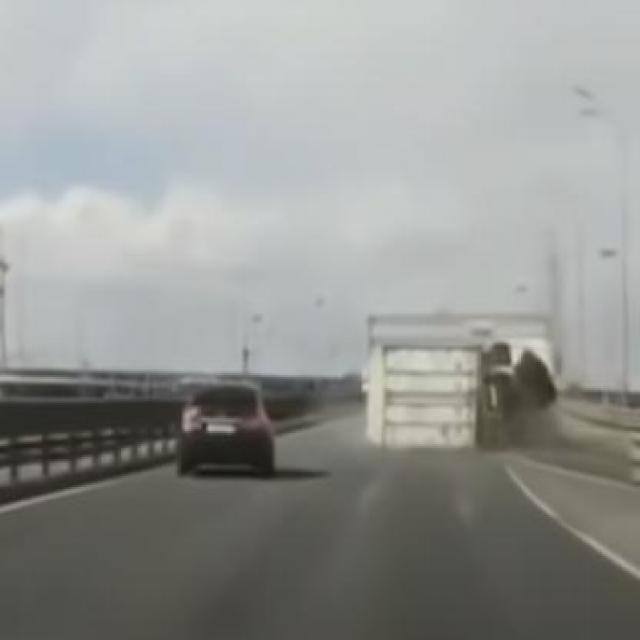accident: (354, 304, 578, 467)
